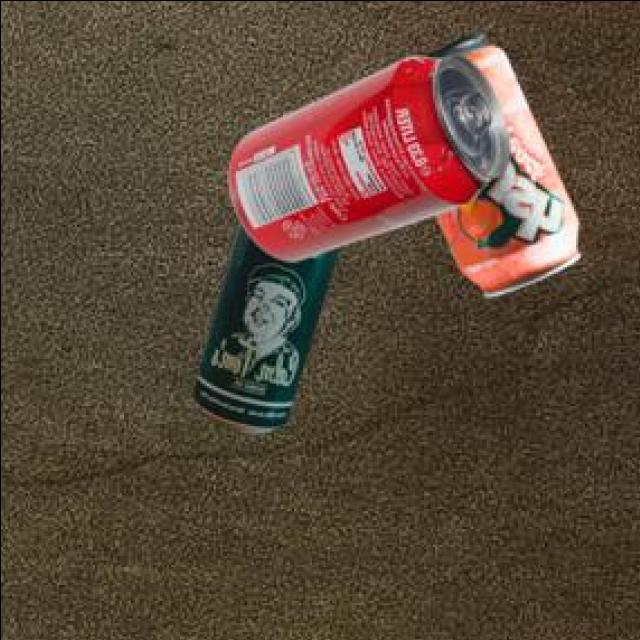logam: (225, 57, 505, 263), (422, 39, 576, 299), (189, 225, 335, 435)
